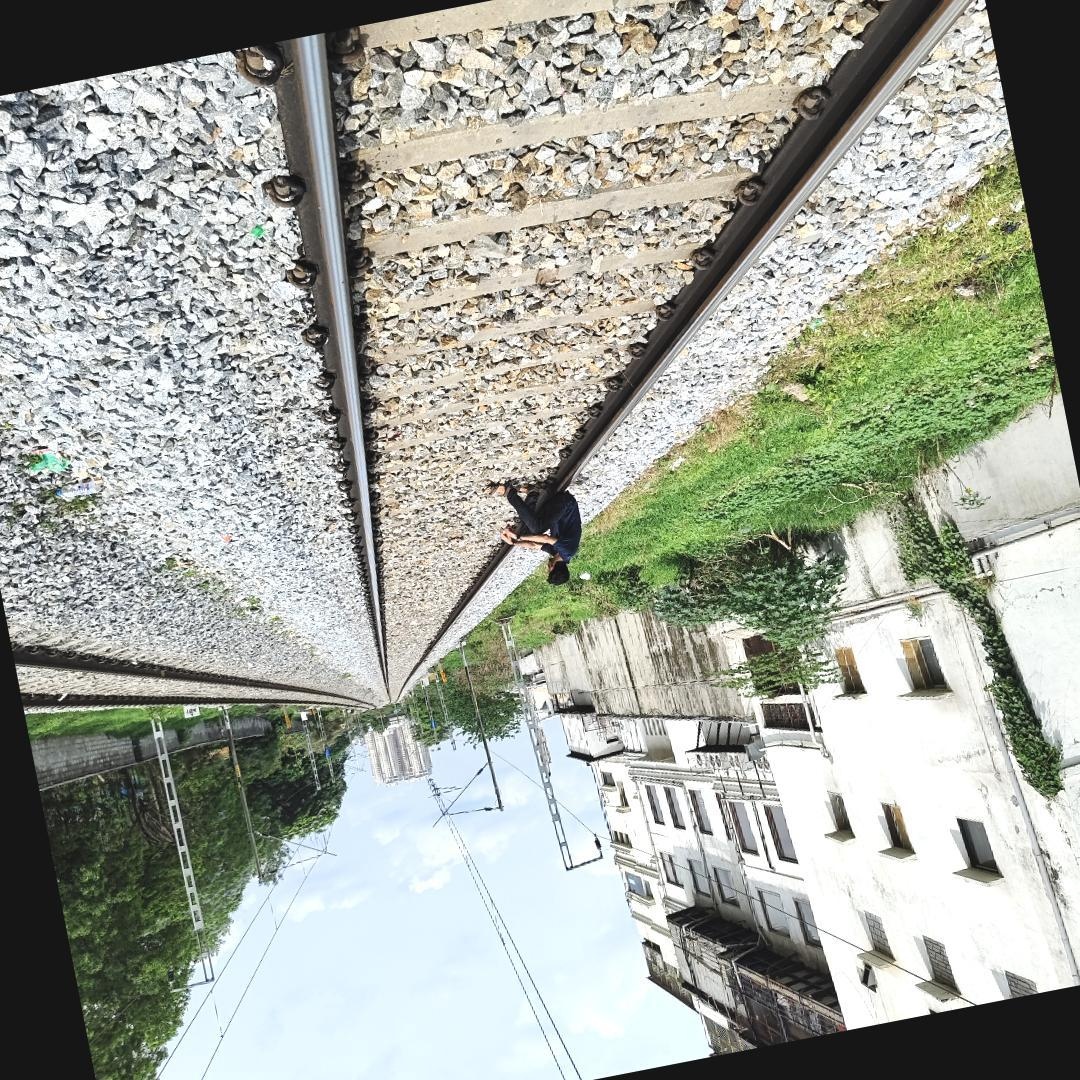sitting: (467, 438, 618, 605)
track: (148, 0, 1007, 708)
